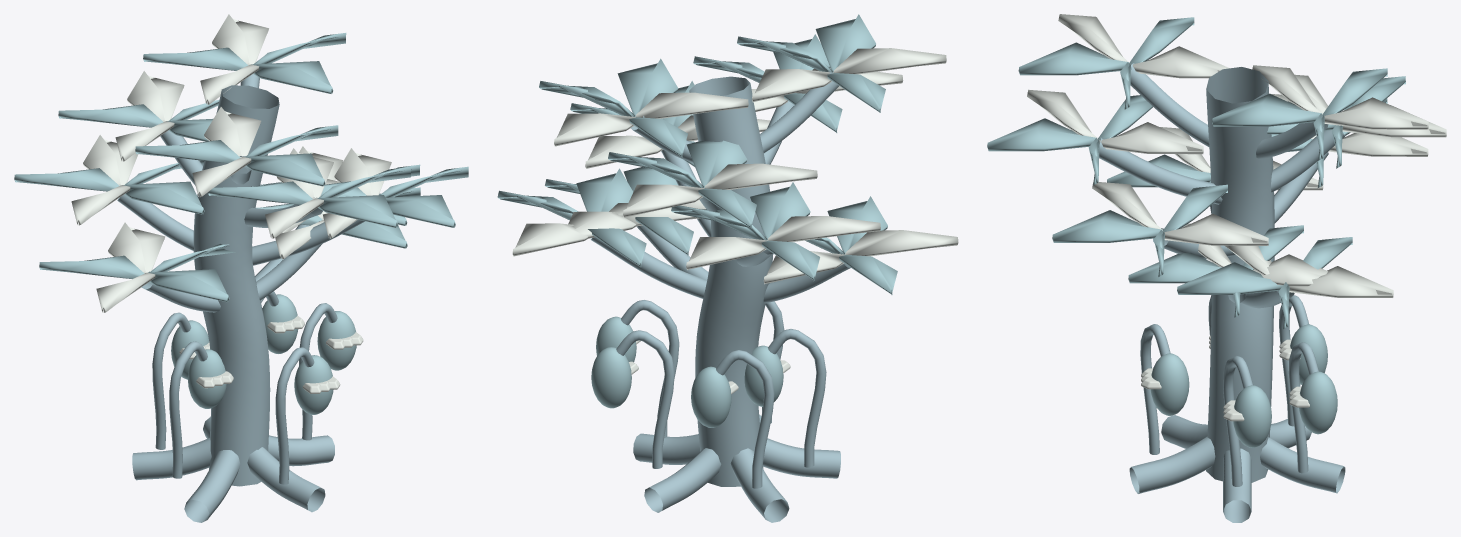
The model's file is bio_canopy_tree_18_near.glb.
3 views of the same model, side by side, from view 1: azimuth 30°, elevation 25°; view 2: azimuth 150°, elevation 25°; view 3: azimuth 270°, elevation 25° (orthographic). The views are drawn at different scales.
Parts seen in each view (by area): view 1: Buttressed trunk, Broad canopy leaf.035, Broad canopy leaf.015, Broad canopy leaf.010, Broad canopy leaf.020, Broad canopy leaf.005, Broad canopy leaf.021, Broad canopy leaf.036, Broad canopy leaf.025, Broad canopy leaf.030, Broad canopy leaf.031, Broad canopy leaf.016 (+14 smaller); view 2: Buttressed trunk, Broad canopy leaf.035, Broad canopy leaf.015, Broad canopy leaf.005, Broad canopy leaf.030, Broad canopy leaf.016, Broad canopy leaf.031, Broad canopy leaf.036, Broad canopy leaf.006, Broad canopy leaf.040, Broad canopy leaf.021, Broad canopy leaf.020 (+15 smaller); view 3: Buttressed trunk, Broad canopy leaf.035, Broad canopy leaf.015, Broad canopy leaf.025, Broad canopy leaf.010, Broad canopy leaf.026, Broad canopy leaf.011, Broad canopy leaf.016, Broad canopy leaf.040, Broad canopy leaf.036, Broad canopy leaf, Broad canopy leaf.041 (+14 smaller).
Boxes of the visible parts, x1,y1,x2,y2 form: Buttressed trunk: (117, 74, 364, 522); Broad canopy leaf.035: (135, 125, 338, 186); Broad canopy leaf.015: (143, 33, 346, 93); Broad canopy leaf.010: (208, 166, 410, 227); Broad canopy leaf.020: (39, 243, 235, 302); Broad canopy leaf.005: (14, 160, 204, 214); Broad canopy leaf.021: (96, 222, 165, 312); Broad canopy leaf.036: (192, 107, 261, 197); Broad canopy leaf.025: (321, 166, 468, 227); Broad canopy leaf.030: (58, 99, 219, 141); Broad canopy leaf.031: (115, 71, 184, 161); Broad canopy leaf.016: (200, 14, 268, 104); Buttressed trunk: (590, 71, 850, 522); Broad canopy leaf.035: (737, 14, 885, 112); Broad canopy leaf.015: (539, 58, 687, 157); Broad canopy leaf.005: (671, 182, 819, 281); Broad canopy leaf.030: (608, 140, 756, 228); Broad canopy leaf.016: (554, 92, 748, 146); Broad canopy leaf.031: (623, 163, 817, 217); Broad canopy leaf.036: (752, 48, 946, 101); Broad canopy leaf.006: (686, 216, 880, 269); Broad canopy leaf.040: (497, 168, 646, 267); Broad canopy leaf.021: (763, 230, 958, 284); Broad canopy leaf.020: (805, 196, 897, 294); Buttressed trunk: (1099, 63, 1345, 522); Broad canopy leaf.035: (1018, 17, 1194, 109); Broad canopy leaf.015: (1212, 68, 1387, 160); Broad canopy leaf.025: (1052, 184, 1227, 276); Broad canopy leaf.010: (987, 95, 1152, 185); Broad canopy leaf.026: (1092, 182, 1268, 245); Broad canopy leaf.011: (1027, 89, 1203, 154); Broad canopy leaf.016: (1252, 65, 1428, 129); Broad canopy leaf.040: (1177, 237, 1352, 329); Broad canopy leaf.036: (1058, 14, 1229, 78); Broad canopy leaf: (1128, 225, 1303, 317); Broad canopy leaf.041: (1224, 245, 1393, 297).
Bounding box in the file's own units: 3.06 × 2.99 × 3.05.
